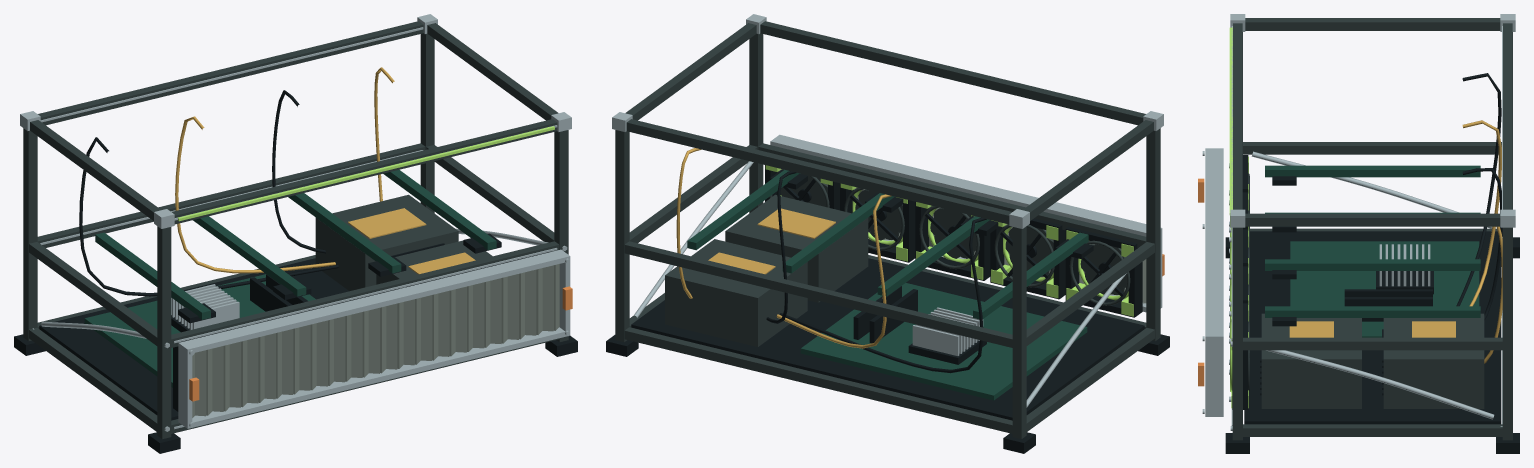
The model's file is rig-gameplay-pleated-none.glb.
The picture shows the model from 3 angles, left to right: view 1: azimuth 30°, elevation 25°; view 2: azimuth 150°, elevation 25°; view 3: azimuth 270°, elevation 25°; orthographic projection.
Parts seen in each view (by area): view 1: Anodized graphite, Filter fibres, Brushed aluminium (×2), Circuit board, Rubber and ABS, Contacts, rig-gameplay-pleated-none, slot-cable-1, slot-cable-2, slot-cable-3; view 2: Anodized graphite (×6), Rubber and ABS (×5), Circuit board, Brushed aluminium (×2), Lime accents (×3), Contacts, slot-cable-1, slot-cable-2, slot-cable-3, slot-cable-4; view 3: Anodized graphite, Rubber and ABS (×2), Circuit board, Brushed aluminium (×2), Contacts, slot-cable-1, slot-cable-2, rig-gameplay-pleated-none, slot-cable-3, slot-cable-4, Industrial orange.
Boxes of the visible parts, x1,y1,x2,y2 form: Anodized graphite: [23, 21, 568, 438]; Filter fibres: [192, 264, 559, 417]; Brushed aluminium (×2): [20, 14, 571, 431]; Circuit board: [84, 169, 496, 387]; Rubber and ABS: [14, 233, 577, 453]; Contacts: [348, 208, 475, 274]; rig-gameplay-pleated-none: [177, 126, 554, 221]; slot-cable-1: [79, 137, 338, 296]; slot-cable-2: [175, 116, 335, 273]; slot-cable-3: [272, 90, 325, 253]; Anodized graphite (×6): [615, 21, 1160, 438]; Rubber and ABS (×5): [606, 169, 1169, 453]; Circuit board: [687, 169, 1088, 400]; Brushed aluminium (×2): [612, 14, 1163, 407]; Lime accents (×3): [916, 202, 1133, 316]; Contacts: [708, 208, 835, 274]; slot-cable-1: [779, 217, 986, 373]; slot-cable-2: [776, 194, 891, 348]; slot-cable-3: [766, 171, 796, 323]; slot-cable-4: [676, 148, 701, 298]; Anodized graphite: [1232, 18, 1512, 440]; Rubber and ABS (×2): [1225, 176, 1519, 453]; Circuit board: [1265, 165, 1480, 337]; Brushed aluminium (×2): [1205, 14, 1515, 430]; Contacts: [1289, 321, 1455, 337]; slot-cable-1: [1456, 73, 1501, 306]; slot-cable-2: [1462, 120, 1501, 306]; rig-gameplay-pleated-none: [1229, 27, 1232, 214]; slot-cable-3: [1462, 168, 1502, 320]; slot-cable-4: [1484, 226, 1502, 363]; Industrial orange: [1198, 178, 1204, 386].
Size of the model in its own units: 6.06 by 3.24 by 4.01.
